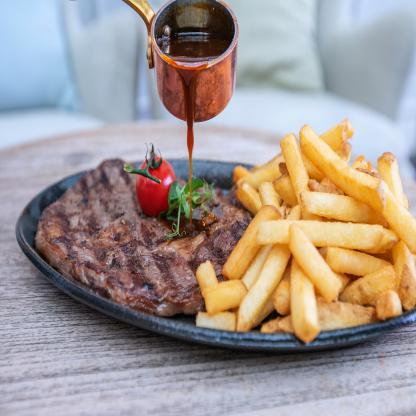Carne: (40, 212, 206, 317), (58, 158, 118, 220)
